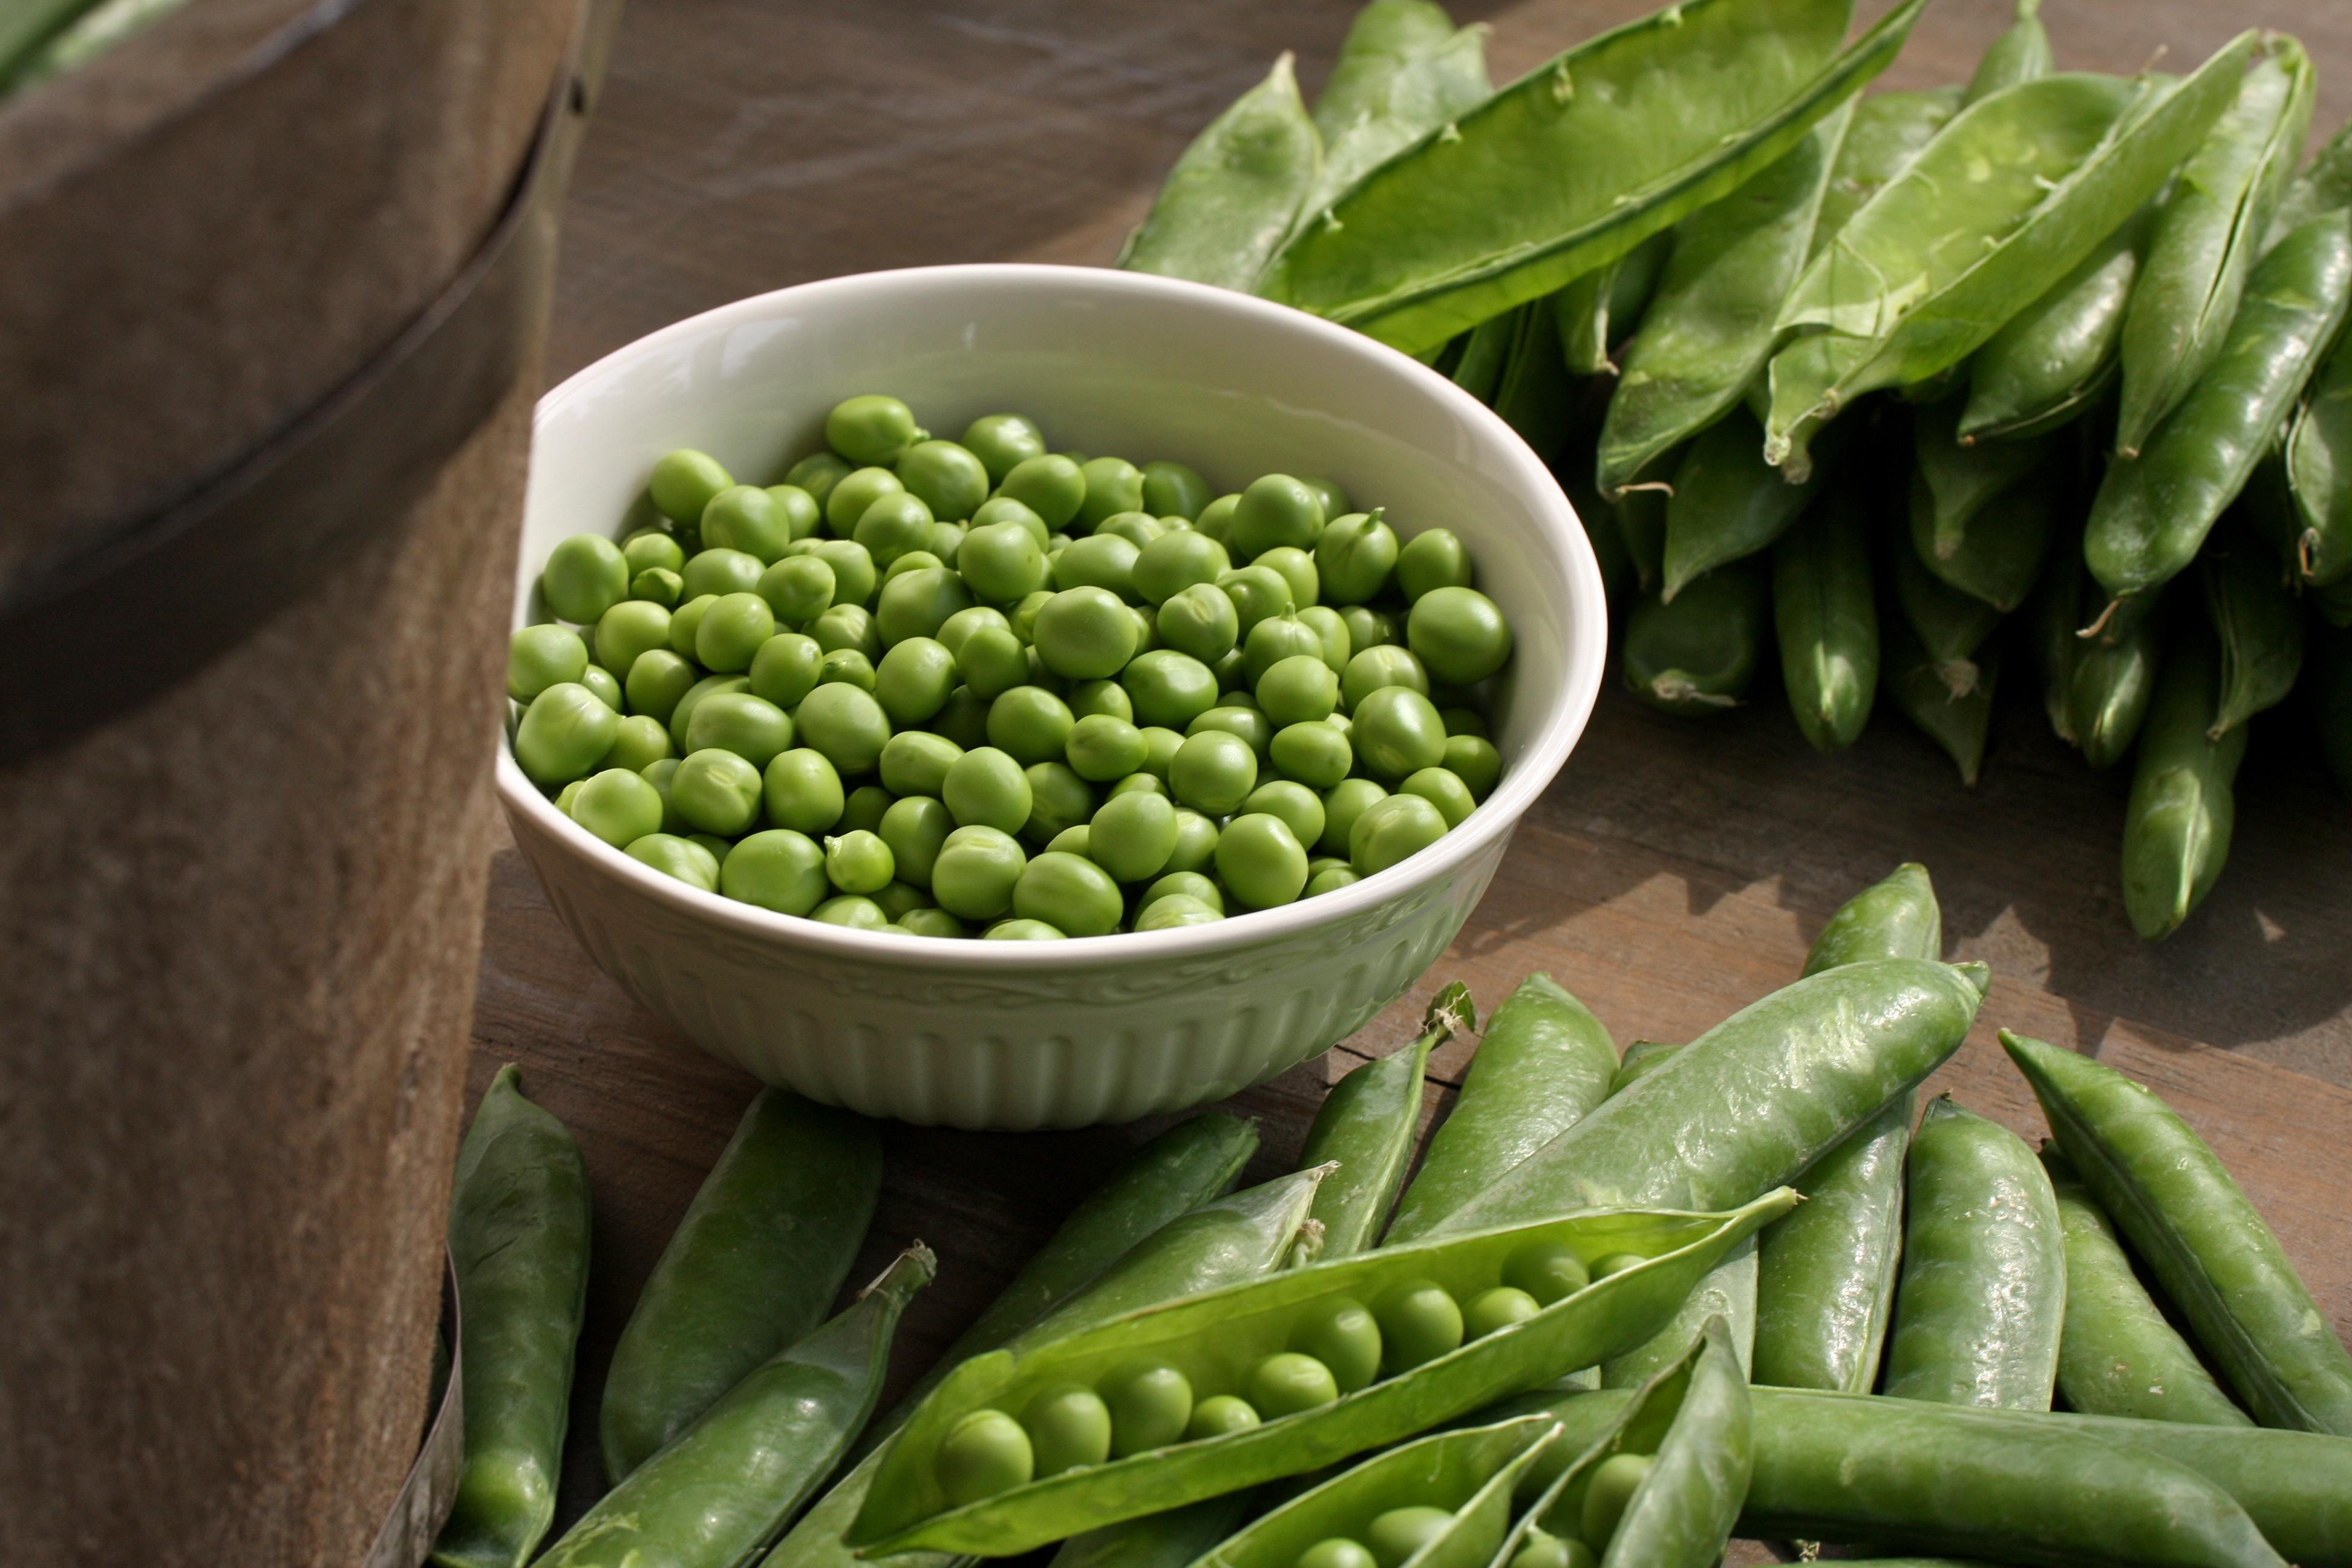peas: (434, 7, 2347, 1561), (425, 864, 2348, 1564), (1122, 0, 2348, 943), (502, 390, 1515, 940), (843, 1181, 1799, 1564), (789, 1106, 1267, 1550), (1995, 1025, 2350, 1433), (2044, 1165, 2348, 1563), (598, 1083, 884, 1488), (2079, 203, 2348, 609), (425, 1060, 591, 1564), (964, 1108, 1262, 1360), (1382, 969, 1619, 1248), (1881, 1090, 2068, 1412), (2002, 1409, 2350, 1564), (1293, 978, 1475, 1263), (2051, 1169, 2250, 1428), (1753, 1085, 1913, 1393), (2119, 632, 2243, 943), (1599, 1316, 1755, 1564), (1801, 859, 1941, 978)
